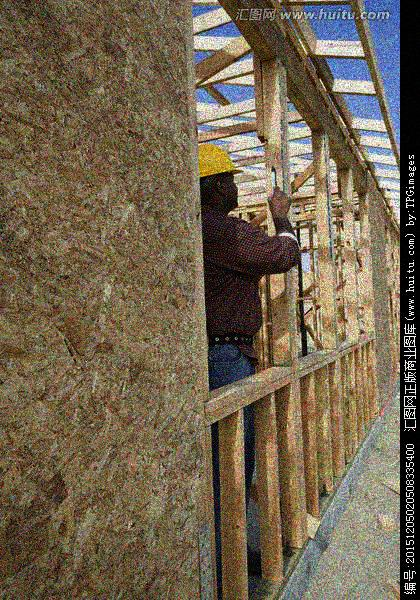helmet: (189, 141, 247, 212)
